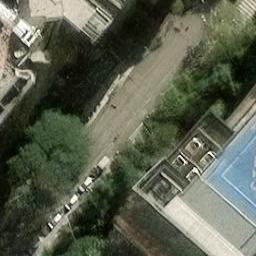heliponto: (221, 136, 255, 206)
